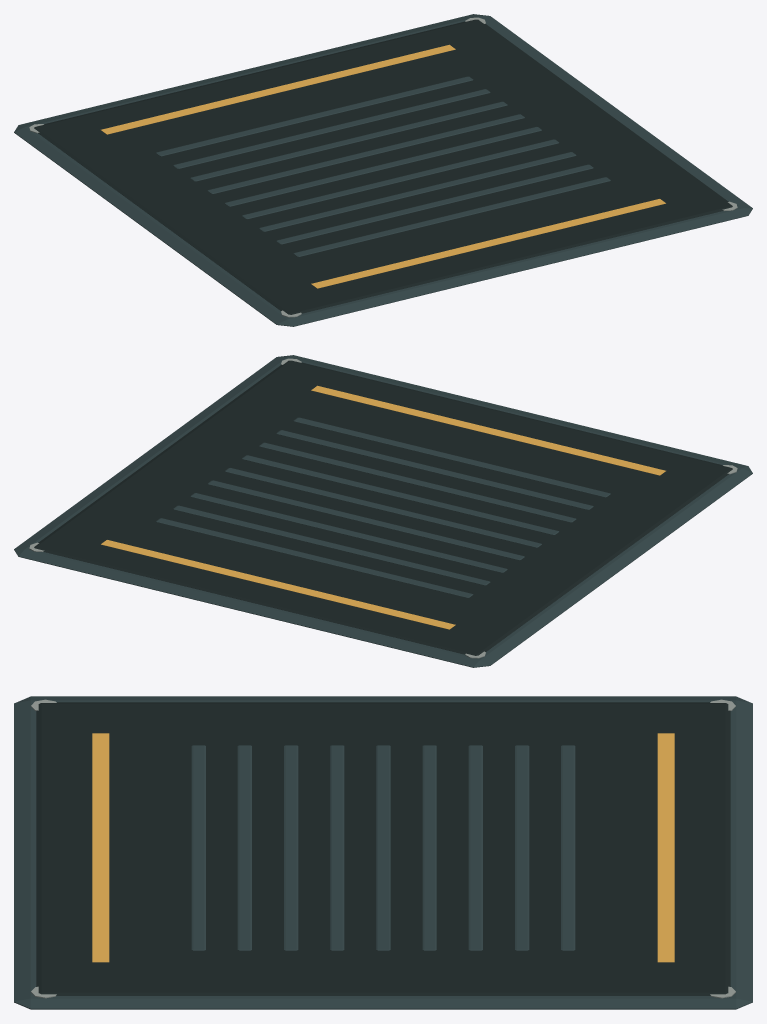
File: e10c-vault-flush-plate.glb
3 views of the same model, one above another, from view 1: azimuth 30°, elevation 25°; view 2: azimuth 150°, elevation 25°; view 3: azimuth 270°, elevation 25° (orthographic). The views are drawn at different scales.
Parts seen in each view (by area): view 1: Fixed_Frame, Moving_Tread; view 2: Fixed_Frame, Moving_Tread; view 3: Fixed_Frame, Moving_Tread.
Part boxes in pixels (bbox=[...]): Fixed_Frame: bbox=[14, 14, 752, 326]; Moving_Tread: bbox=[101, 44, 665, 288]; Fixed_Frame: bbox=[14, 355, 752, 667]; Moving_Tread: bbox=[101, 385, 665, 629]; Fixed_Frame: bbox=[14, 696, 752, 1009]; Moving_Tread: bbox=[92, 733, 674, 962].
Bounding box in the file's own units: 2 × 0.0267 × 2.
